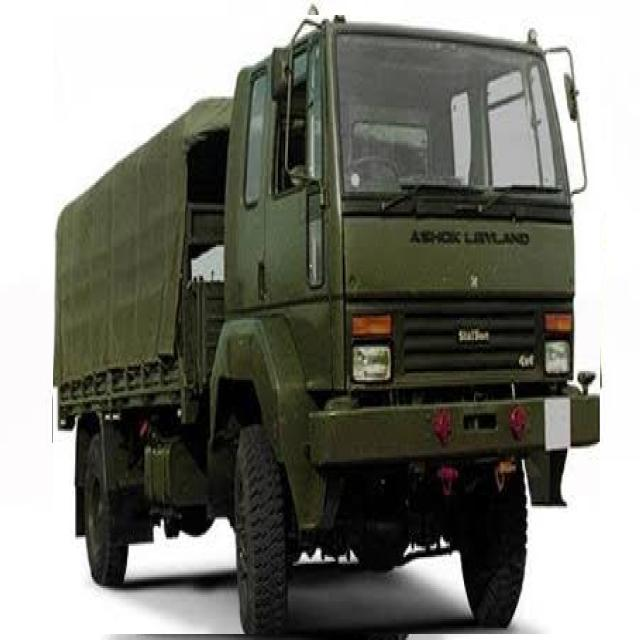truck: (53, 16, 600, 634)
